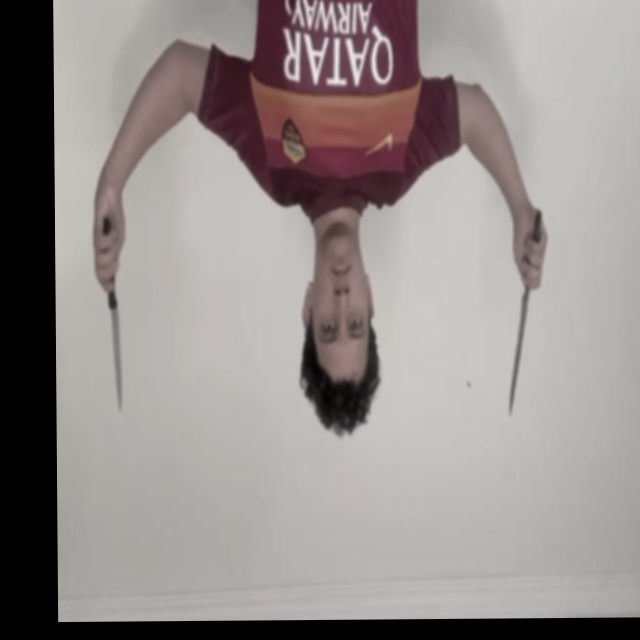Sharp-Object: (507, 290, 527, 421), (110, 307, 124, 418)
